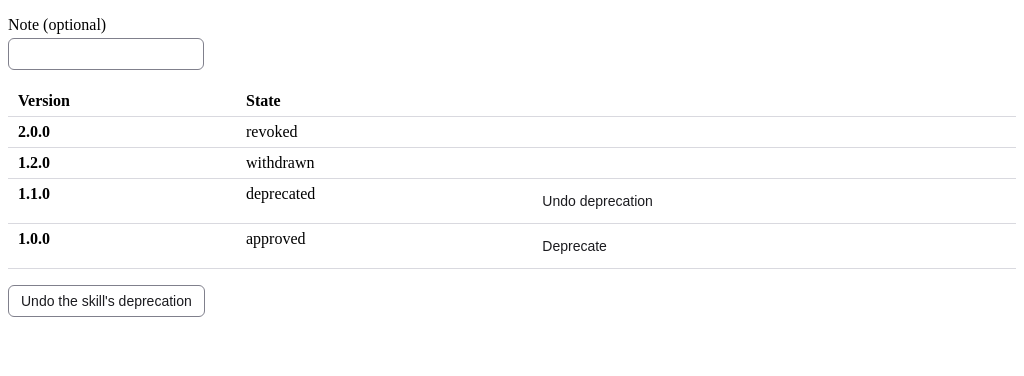
it: undoing a skill's deprecation › offers Undo on a deprecated skill
Step 1. Click the button with aria-label "Undo the deprecation of sales" → (106, 301), box top-left (8, 285), bottom-right (205, 317)
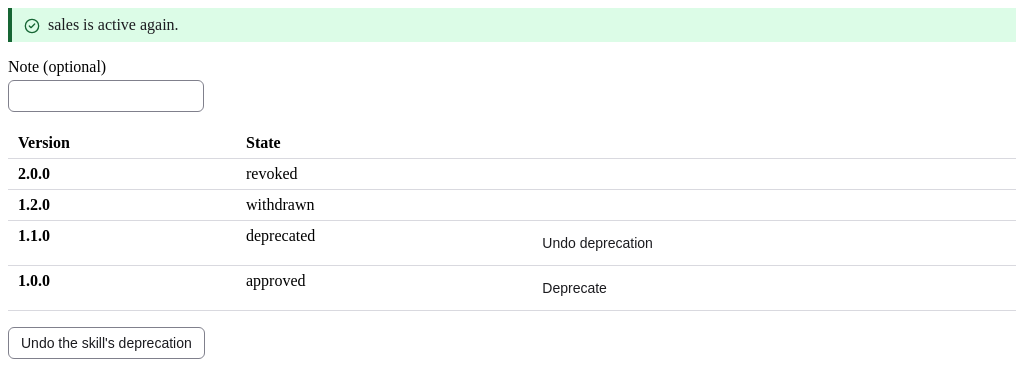
Now the text "sales is active again." is shown, box top-left (48, 16), bottom-right (179, 33)
